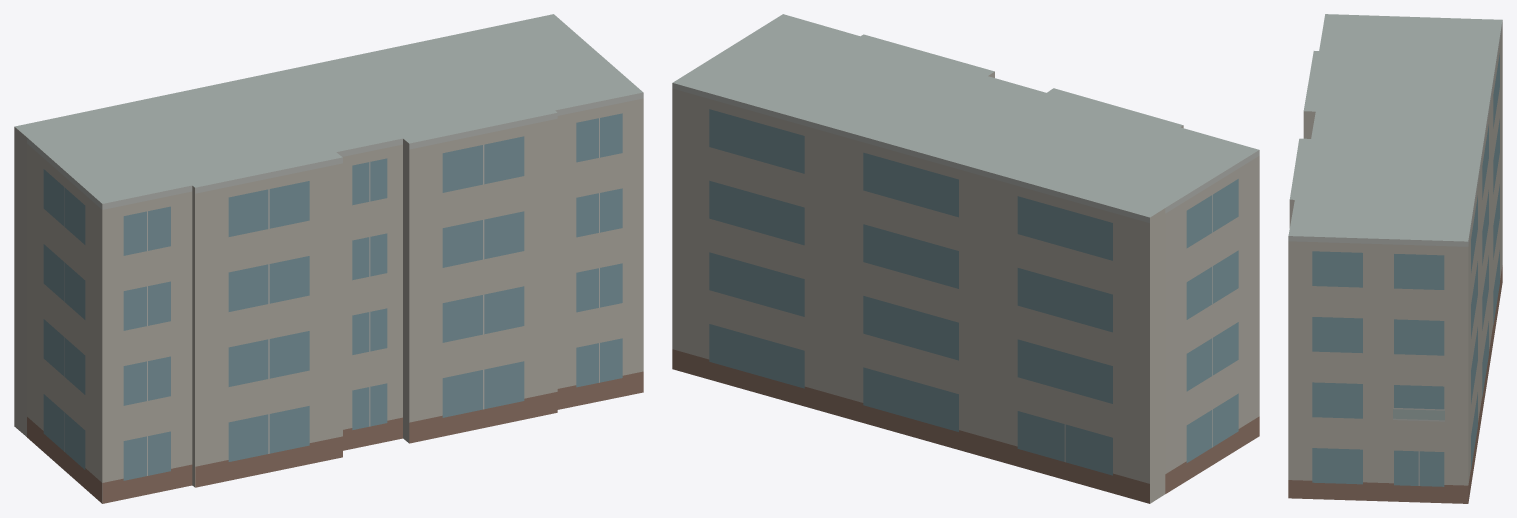
The model's file is survey-upis-32829735.glb.
The picture shows the model from 3 angles, left to right: view 1: azimuth 30°, elevation 25°; view 2: azimuth 150°, elevation 25°; view 3: azimuth 270°, elevation 25°; orthographic projection. The views are drawn at different scales.
Visible parts, largest first — view 1: survey-upis-32829735.tmp; view 2: survey-upis-32829735.tmp; view 3: survey-upis-32829735.tmp.
Boxes of the visible parts, x1,y1,x2,y2 form: survey-upis-32829735.tmp: (14,14,643,503); survey-upis-32829735.tmp: (672,14,1259,503); survey-upis-32829735.tmp: (1288,14,1502,503).
Size of the model in its own units: 22.71 by 12.2 by 9.04.
